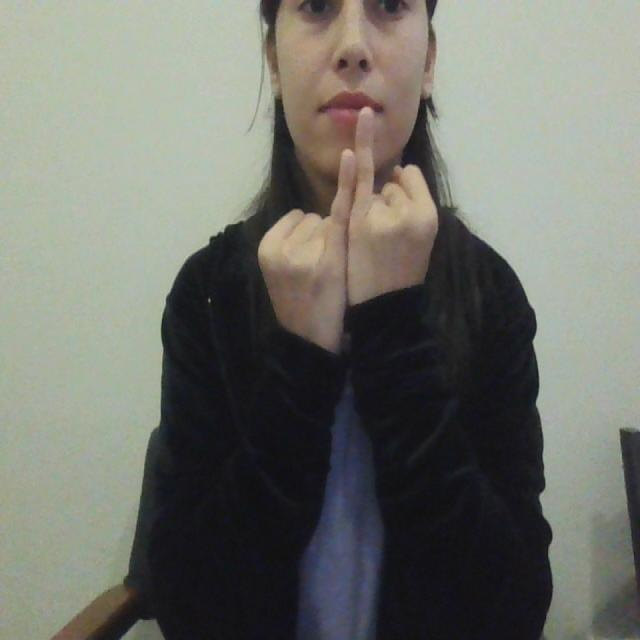Kardes: (255, 96, 442, 364)
